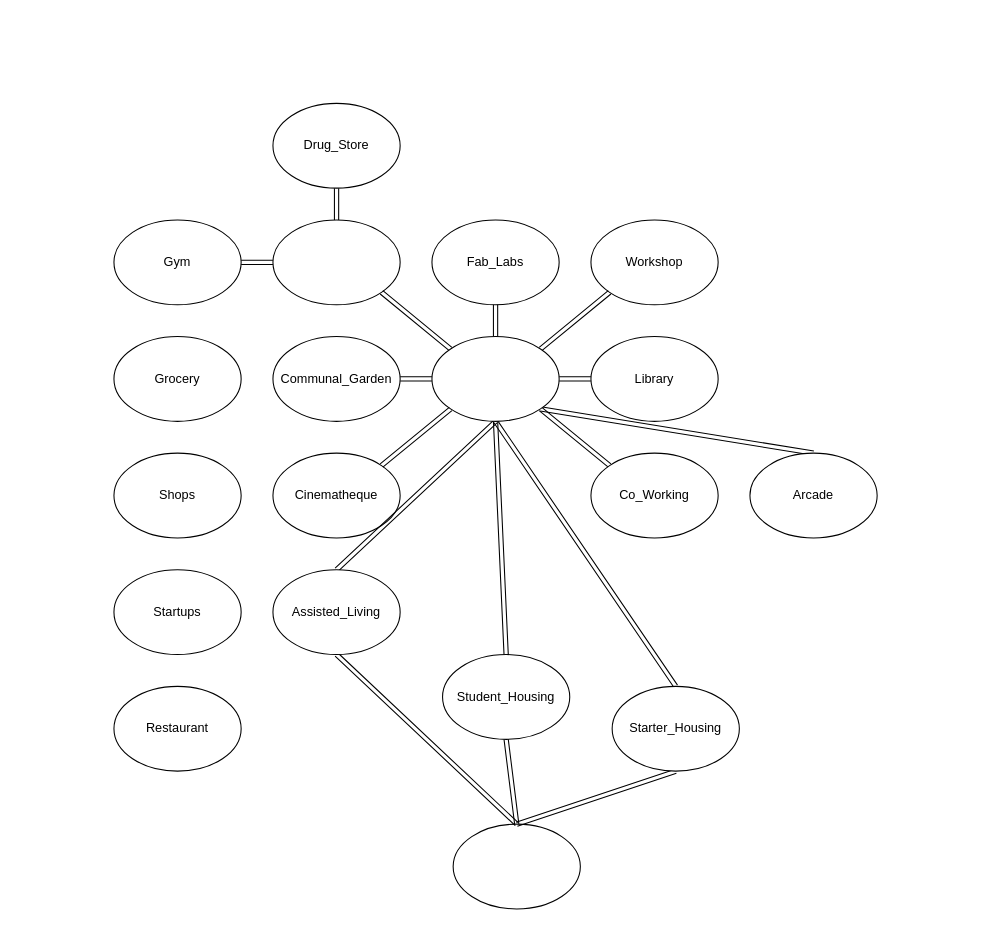
Some shapes in this 991 by 938 pixel diagram are drawn without their labels. Here are the shapes that lost their labels. From the top down, the box of each, then its label:
(272, 219, 400, 305): Lobby
(431, 335, 559, 421): Community_Center
(452, 823, 580, 909): Laundry
